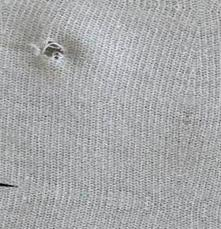hole: (39, 37, 70, 66)
